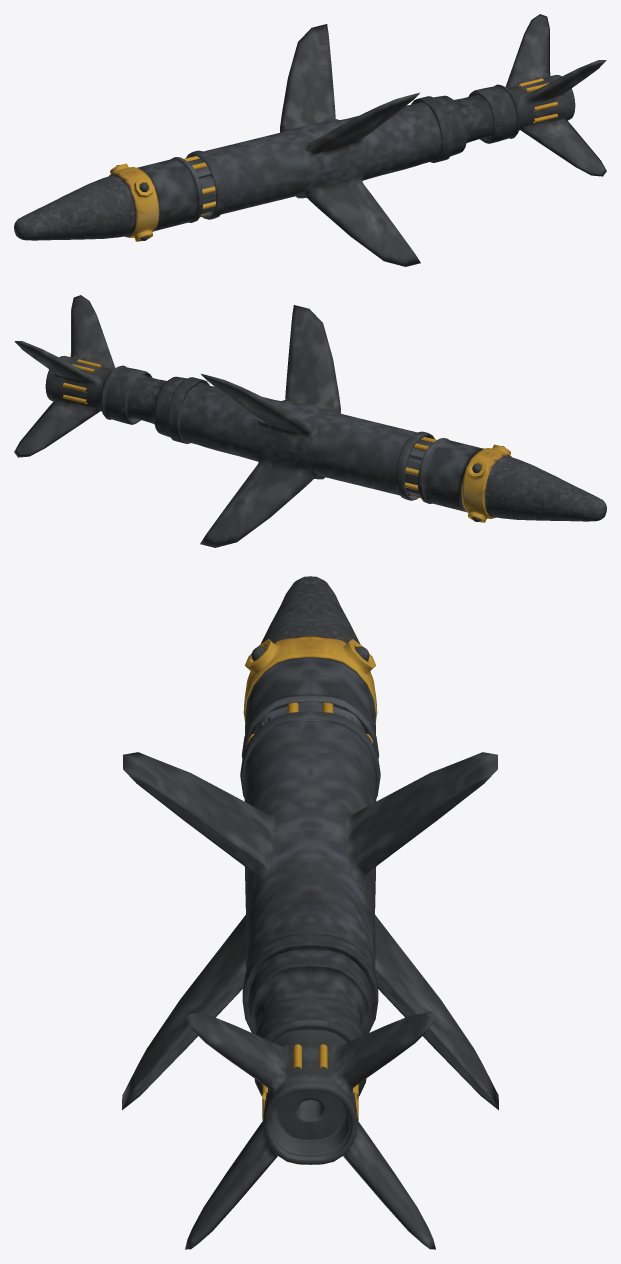
File: missile-fixed.dae
The picture shows the model from 3 angles, top to bottom: view 1: azimuth 30°, elevation 25°; view 2: azimuth 150°, elevation 25°; view 3: azimuth 270°, elevation 25°; orthographic projection. The views are drawn at different scales.
Visible parts, largest first — view 1: Missile; view 2: Missile; view 3: Missile.
Part boxes in pixels (x1=…): Missile: x1=14, y1=14, x2=606, y2=266; Missile: x1=14, y1=295, x2=606, y2=547; Missile: x1=122, y1=576, x2=498, y2=1249.
Bounding box in the file's own units: 9.71 × 2.83 × 2.82.
1 material, 1 textured.
